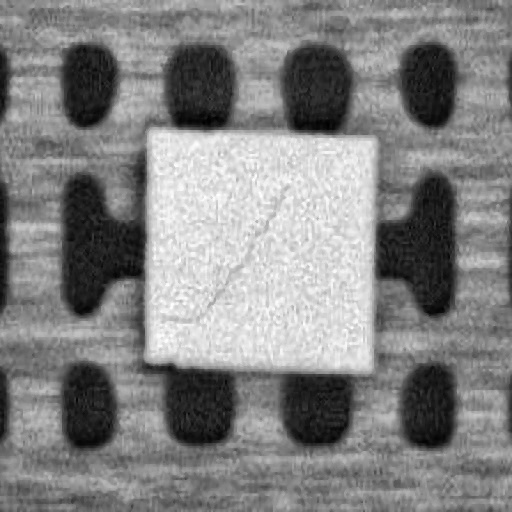DIE_CRACK: (200, 180, 287, 316)
